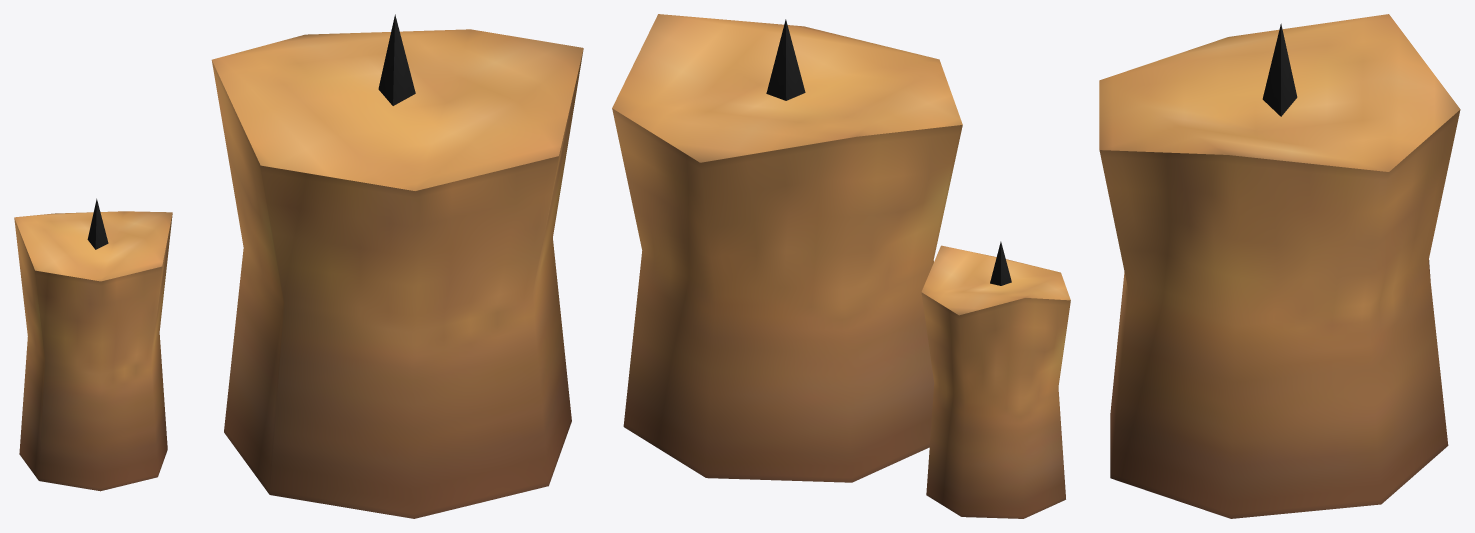
Rendered from candle.FBX.
3 renders of one model, left to right at view 1: azimuth 30°, elevation 25°; view 2: azimuth 150°, elevation 25°; view 3: azimuth 270°, elevation 25°, orthographic. The views are drawn at different scales.
Visible parts, largest first — view 1: candle; view 2: candle; view 3: candle.
Part boxes in pixels (bbox=[...]): candle: bbox=[14, 14, 583, 518]; candle: bbox=[612, 14, 1070, 518]; candle: bbox=[1099, 14, 1460, 518].
Size of the model in its own units: 46.34 by 38.23 by 29.6.
